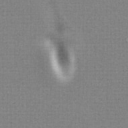abnormal: (38, 1, 70, 47)
